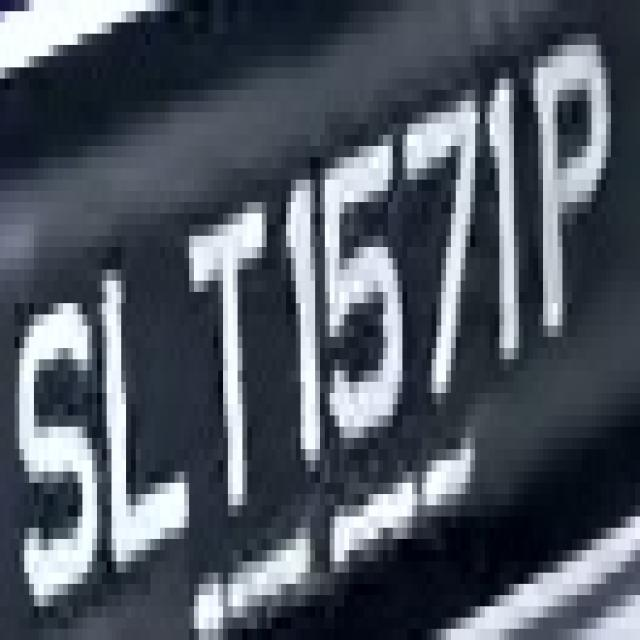1: (276, 146, 330, 494), (475, 45, 524, 370)
5: (315, 135, 412, 483)
7: (393, 78, 475, 438)
L: (92, 236, 194, 595)
P: (518, 22, 620, 360)
S: (10, 280, 111, 618)
T: (175, 168, 272, 550)
